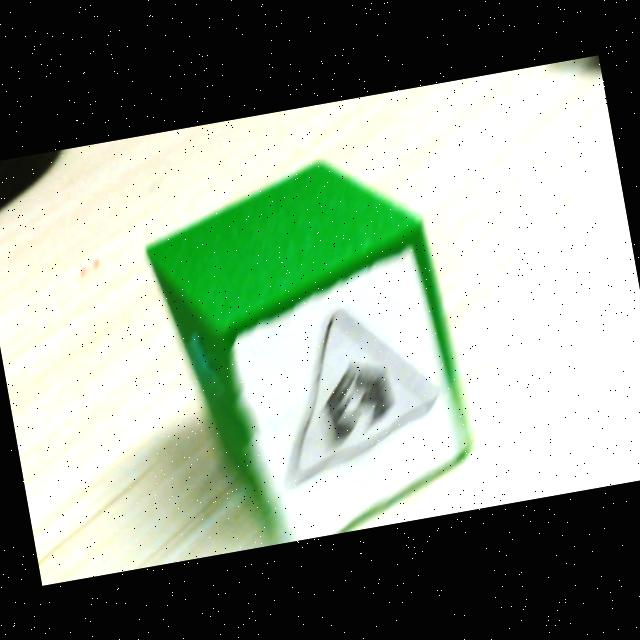Earthquake: (284, 310, 440, 488)
